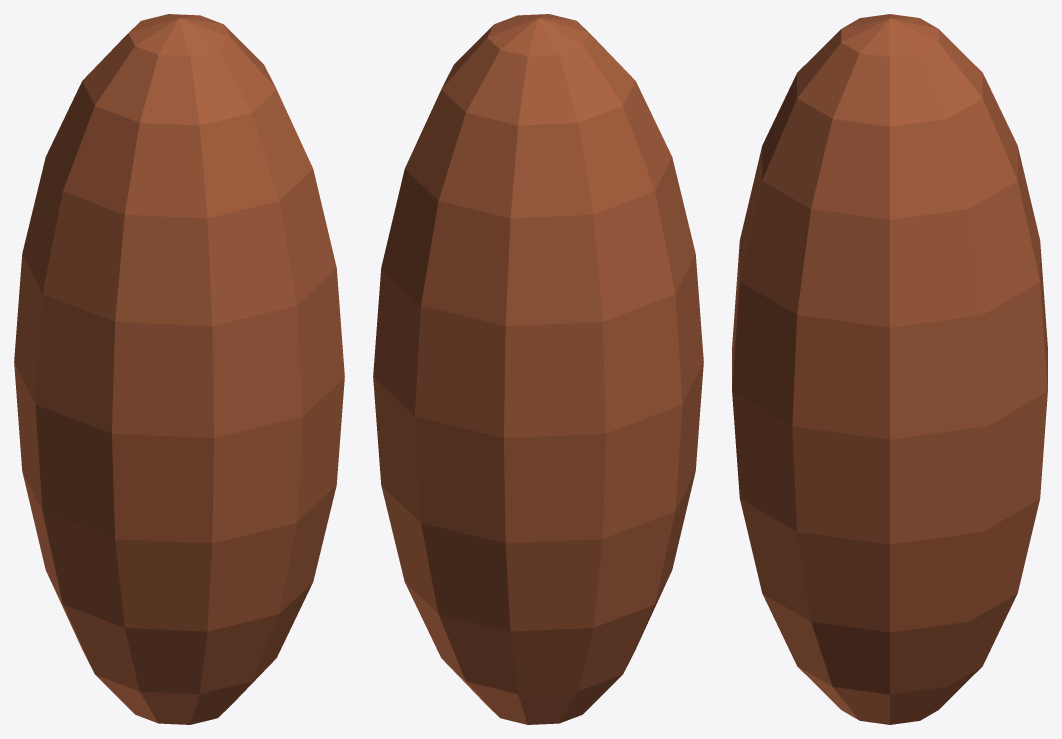
The model's file is Power_Up_Rocket.fbx.
3 renders of one model, left to right at view 1: azimuth 30°, elevation 25°; view 2: azimuth 150°, elevation 25°; view 3: azimuth 270°, elevation 25°, orthographic.
Parts seen in each view (by area): view 1: Power_Up_Rocket; view 2: Power_Up_Rocket; view 3: Power_Up_Rocket.
Boxes of the visible parts, x1=… form: Power_Up_Rocket: x1=14, y1=14, x2=344, y2=724; Power_Up_Rocket: x1=373, y1=14, x2=703, y2=724; Power_Up_Rocket: x1=732, y1=14, x2=1047, y2=724.
Bounding box in the file's own units: 1.17 × 2.73 × 1.11.
